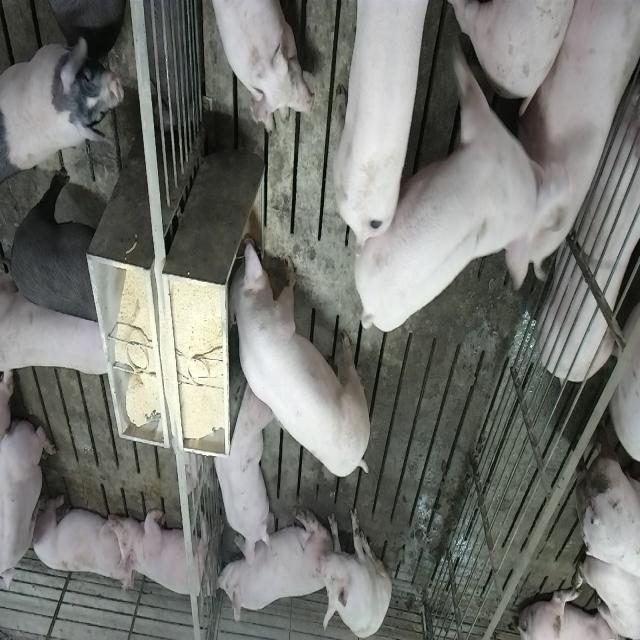Feeding: (220, 230, 368, 479)
Sitting: (314, 505, 392, 639)
Standing: (352, 12, 566, 348), (327, 0, 424, 246), (3, 31, 126, 172), (5, 174, 106, 328), (2, 264, 120, 372), (575, 437, 640, 583), (35, 0, 127, 30)
Sternal_lying: (539, 49, 640, 387), (204, 0, 308, 135), (214, 507, 325, 628), (209, 380, 271, 562), (30, 490, 132, 590), (2, 414, 56, 600), (121, 506, 215, 604)
